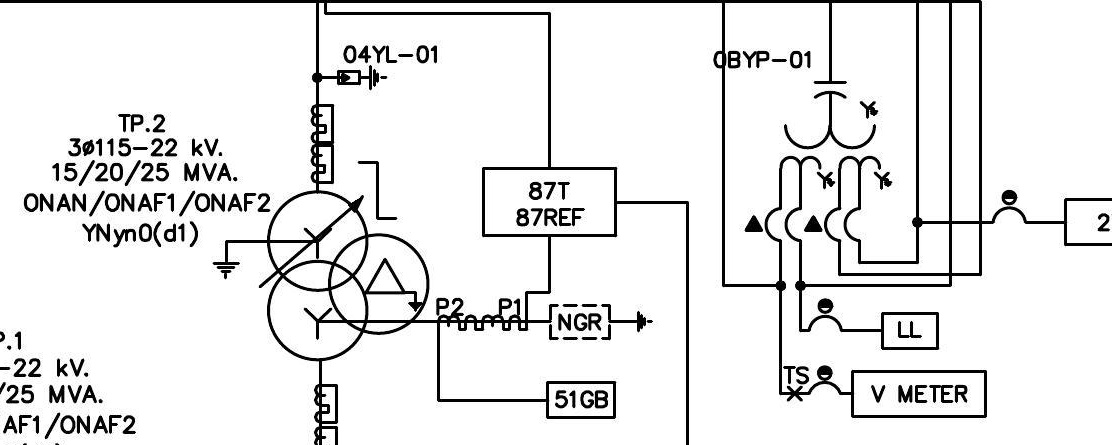11522_tx_ynyn0d1: (266, 189, 431, 363)
115_cvt_3p: (743, 80, 893, 244)
115_la: (336, 64, 388, 91)
LL: (880, 311, 940, 351)
NGR_future: (548, 304, 654, 341)
v_m_digital: (850, 369, 988, 419)
